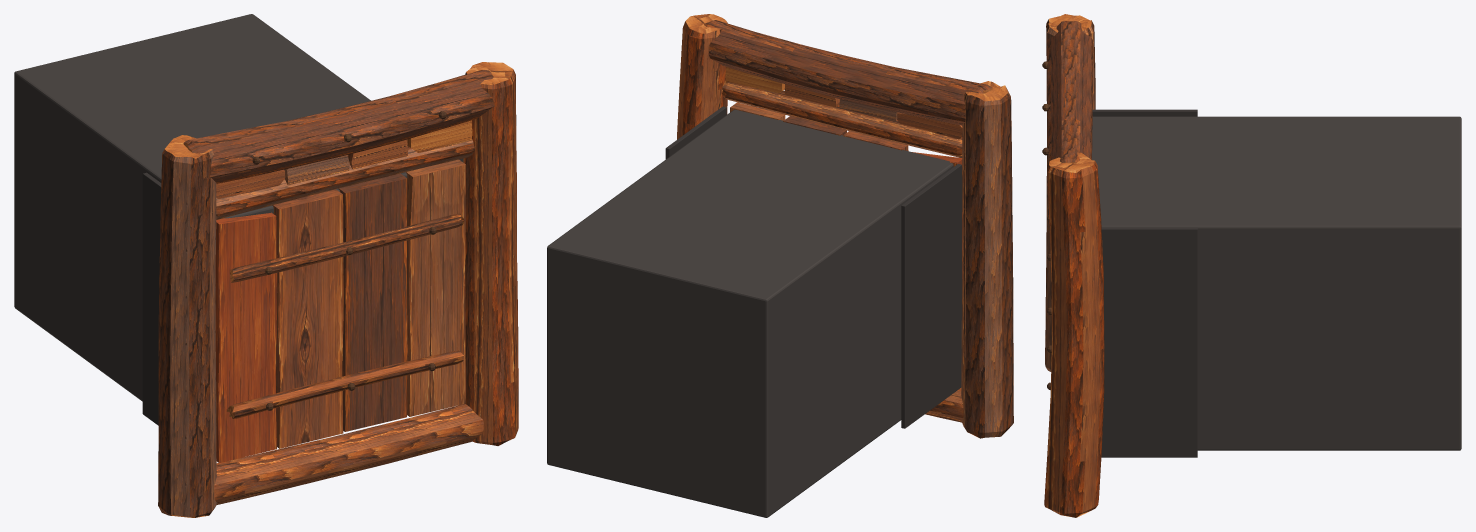
File: trap_push_wall.glb
The picture shows the model from 3 angles, left to right: view 1: azimuth 30°, elevation 25°; view 2: azimuth 150°, elevation 25°; view 3: azimuth 270°, elevation 25°; orthographic projection. The views are drawn at different scales.
Parts seen in each view (by area): view 1: block, frame; view 2: block, frame; view 3: block, frame.
Boxes of the visible parts, x1=… form: block: x1=14, y1=14, x2=466, y2=462; frame: x1=142, y1=62, x2=518, y2=517; block: x1=547, y1=102, x2=962, y2=517; frame: x1=665, y1=14, x2=1013, y2=438; block: x1=1047, y1=116, x2=1461, y2=450; frame: x1=1042, y1=14, x2=1197, y2=517.
Size of the model in its own units: 1.99 by 1.98 by 2.15.
Materials: 22 (20 with a texture image).
